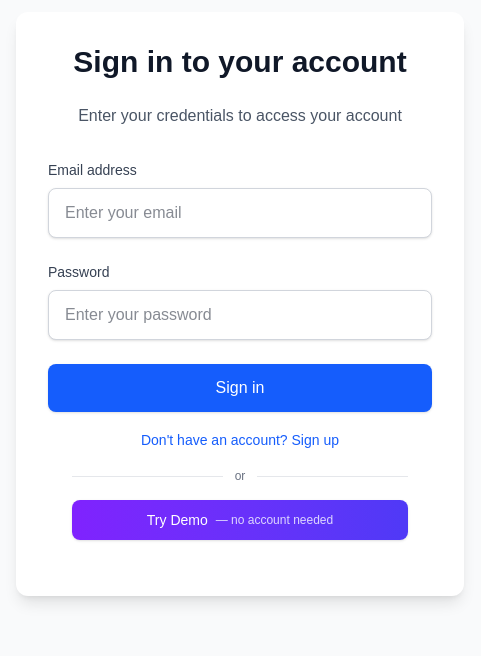
Scenario: LoginPage › displays an error when login fails with unexpected error
The image size is (481, 656).
Step 1. Type "test@example.com" into the field labelled "Email address" → (240, 213), box top-left (48, 188), bottom-right (432, 238)
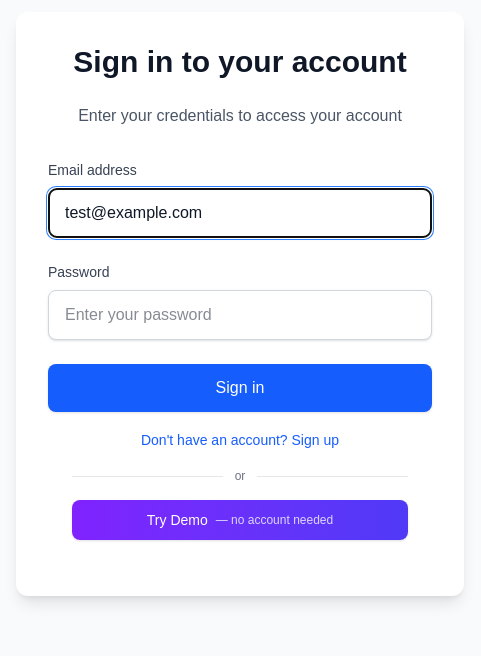
Step 2. Type "wrong" into the password field labelled "Password" → (240, 315), box top-left (48, 290), bottom-right (432, 340)
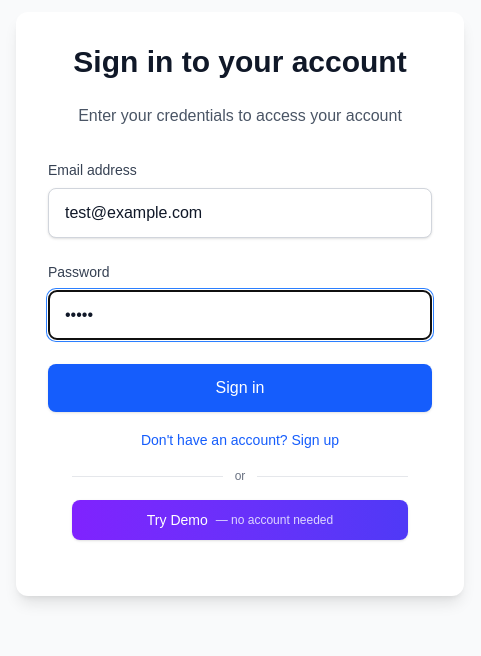
Step 3. Click the button "Sign in" → (240, 388), box top-left (48, 364), bottom-right (432, 412)
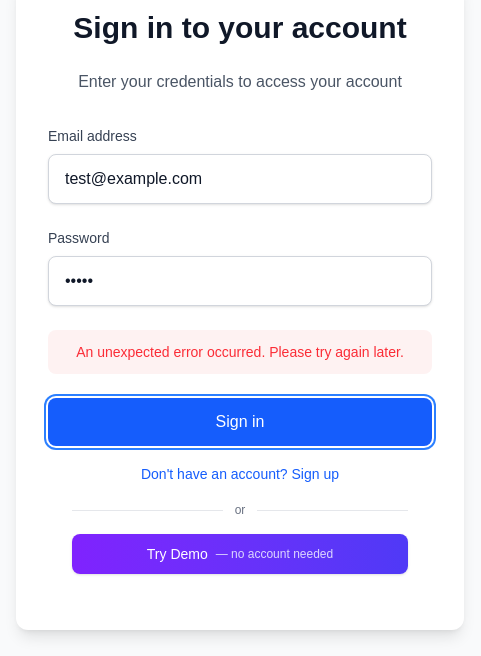
Result: the text "An unexpected error occurred. Please try again later." is shown at top-left (48, 330), bottom-right (432, 374)
